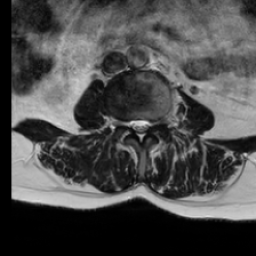CCS_normal: (136, 112, 144, 149)
LFS_severe_stenosis: (151, 113, 160, 132)
LLS_normal: (144, 113, 151, 138)
RFS_stenosis: (120, 111, 129, 136)
RLS_normal: (129, 112, 136, 139)
